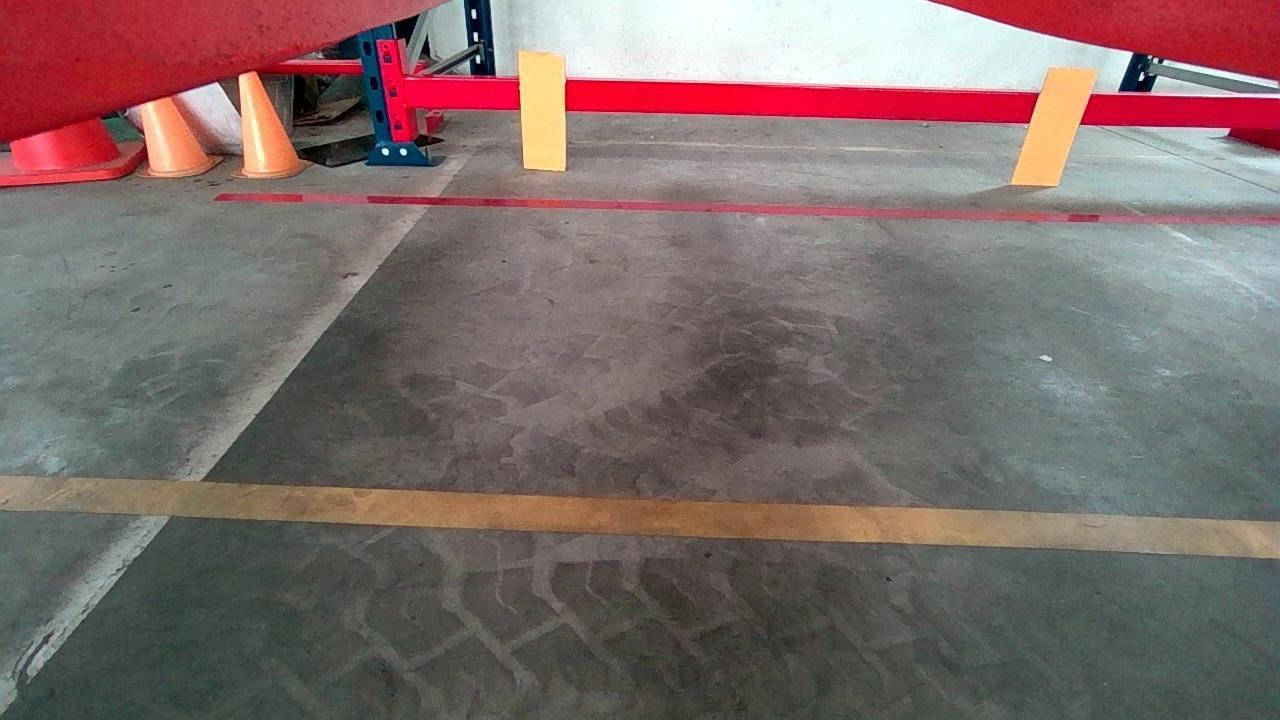h_rack: (402, 79, 1280, 131)
orange_strip: (1013, 66, 1100, 185), (517, 49, 565, 168)
red_line: (214, 190, 1277, 221)
yellow_line: (4, 476, 1280, 560)
